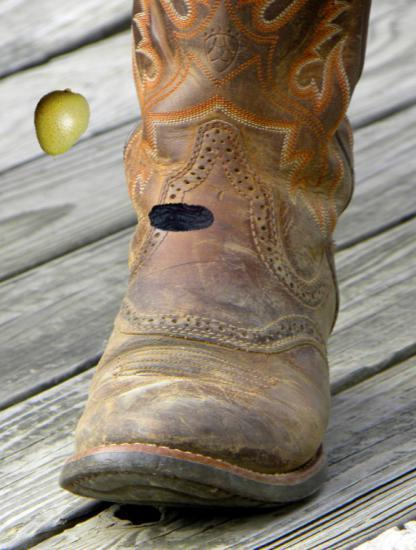Dates: (148, 184, 216, 252)
Pear: (25, 88, 99, 162)
